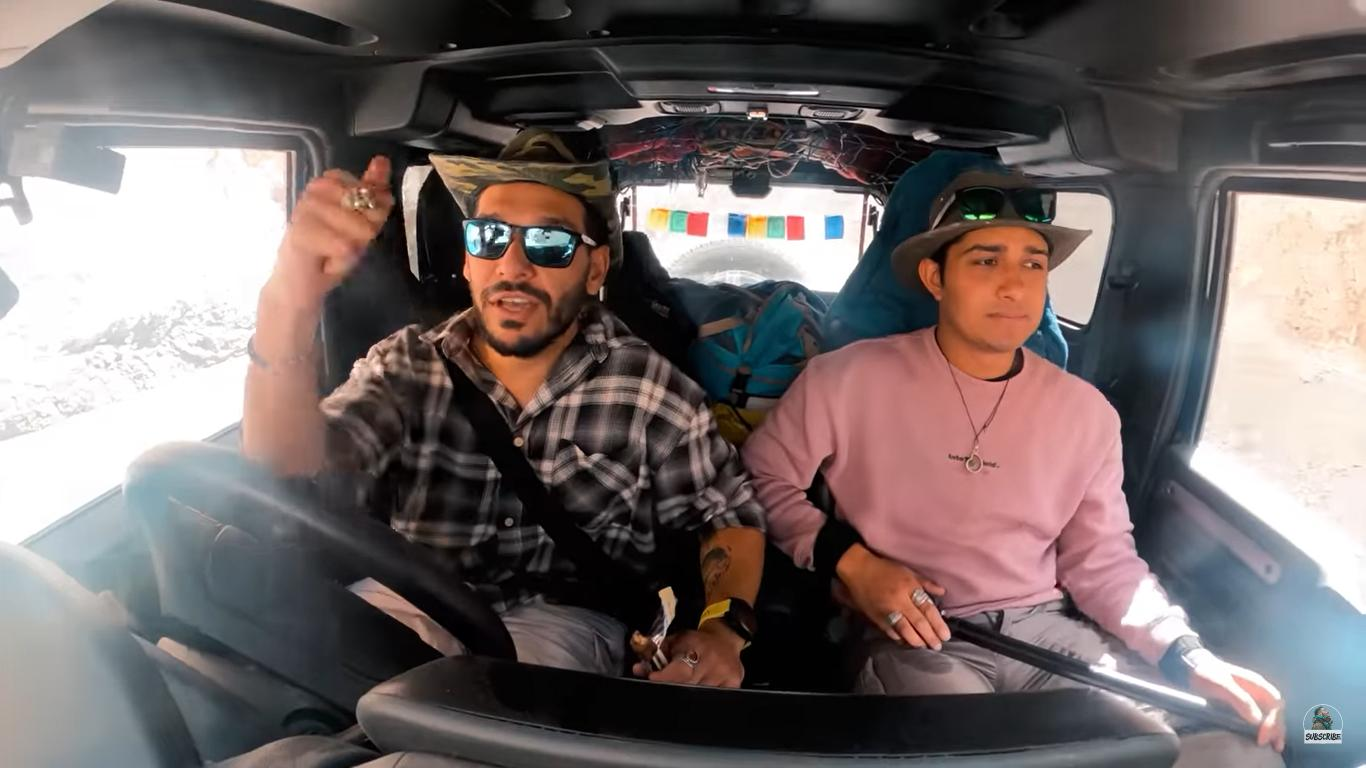no-seatbelt: (857, 347, 1141, 651)
seatbelt: (410, 334, 642, 624)
